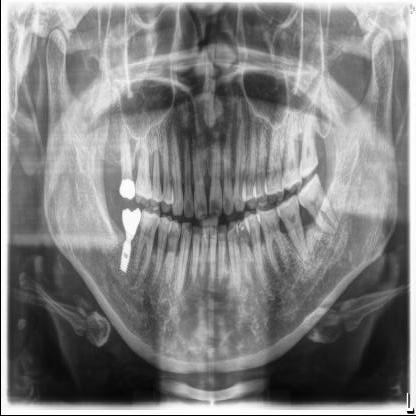Bicon: (118, 232, 132, 276)
